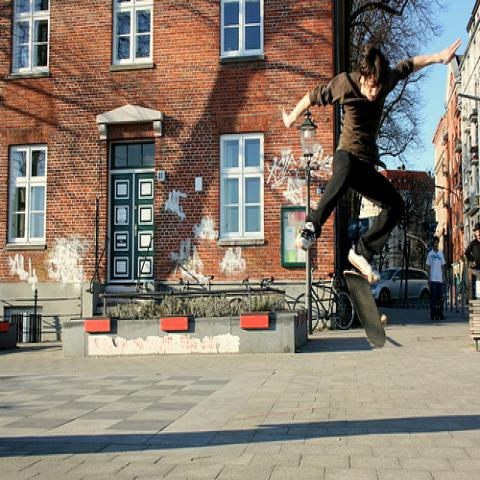car: (372, 266, 430, 300)
